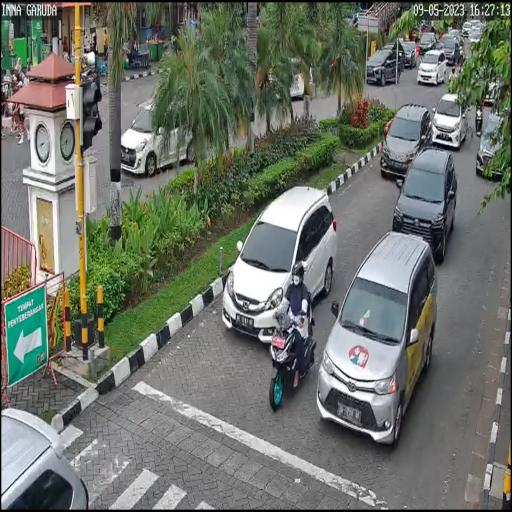mobil: (314, 226, 441, 452), (220, 182, 341, 343), (391, 144, 461, 260), (378, 100, 430, 189), (432, 85, 468, 152)
motor: (266, 308, 312, 438)
